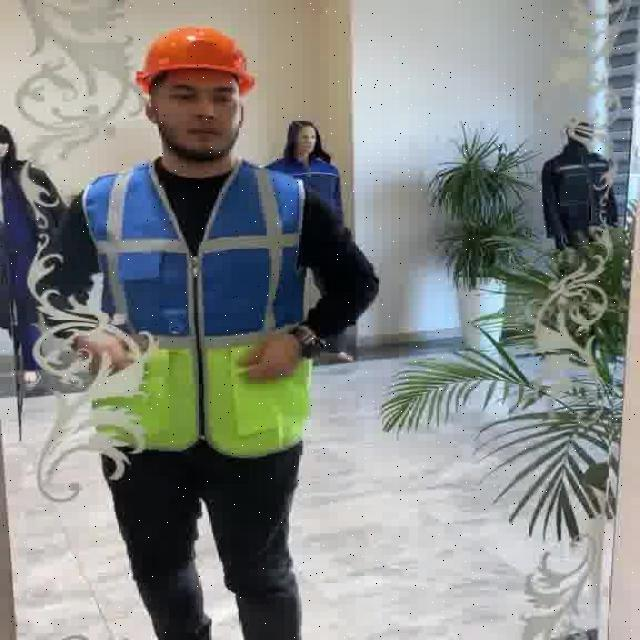Hard_hat: (130, 21, 266, 91)
Vest: (95, 150, 305, 463)
